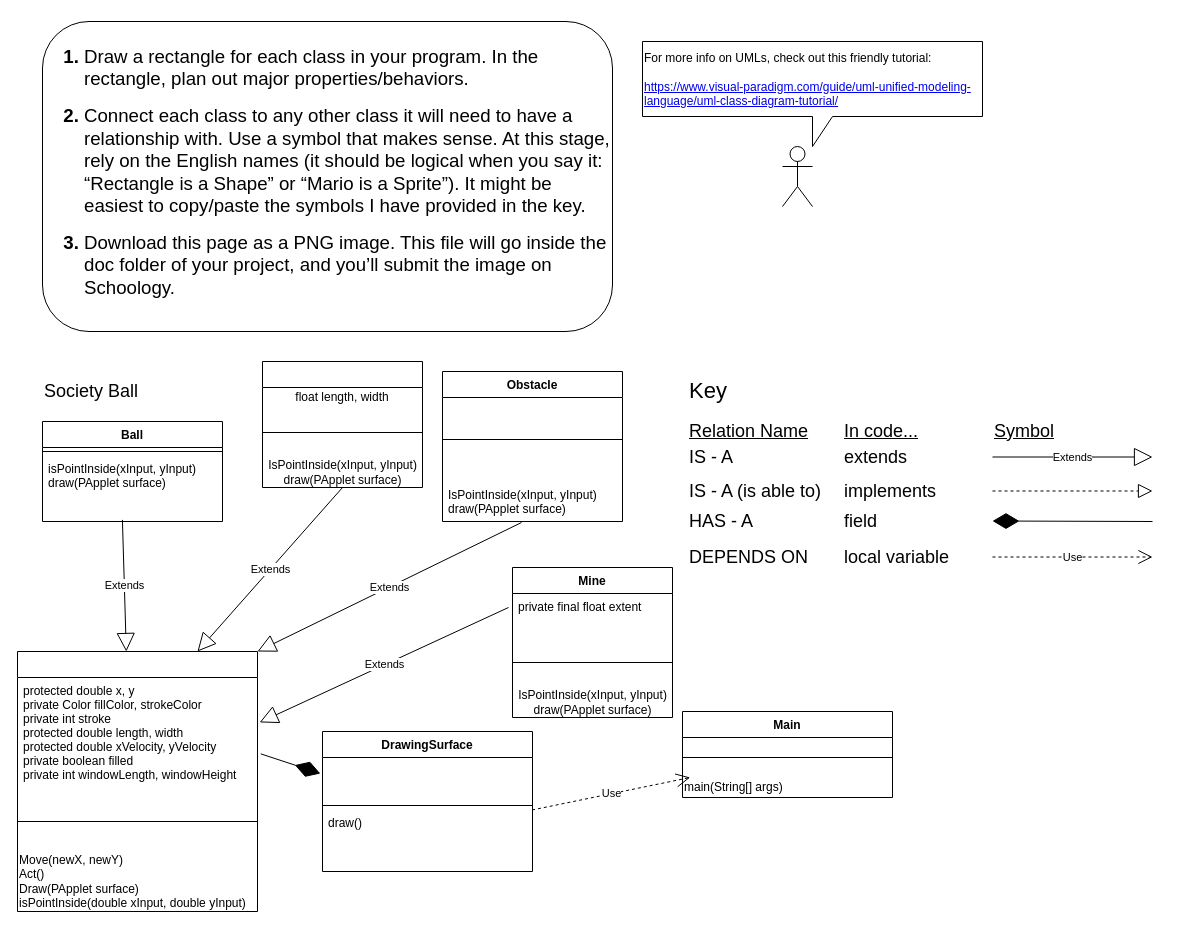
Image size: 1196x929. Some labels were removed from this diagram. Here are the shapes that lost their labels. From the top down, the box of each, then its label:
(782, 146, 812, 206): Actor
(262, 360, 422, 488): Paddle
(16, 650, 258, 912): Shape
